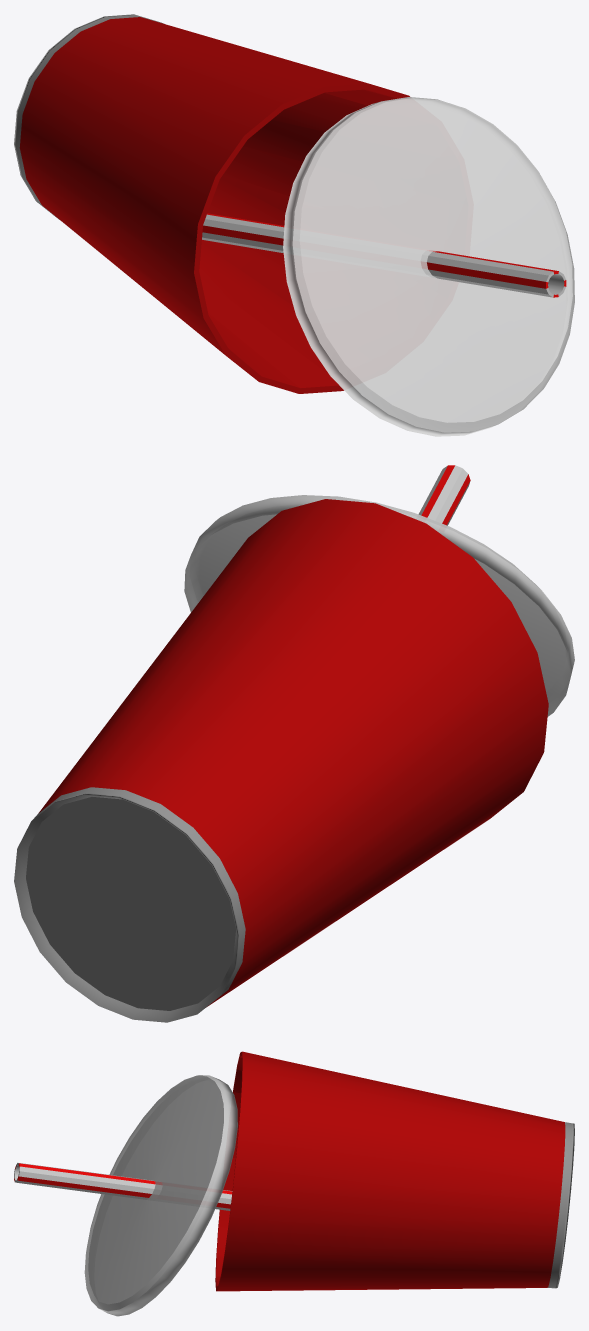
File: Cup.fbx
The picture shows the model from 3 angles, top to bottom: view 1: azimuth 30°, elevation 25°; view 2: azimuth 150°, elevation 25°; view 3: azimuth 270°, elevation 25°; orthographic projection. The views are drawn at different scales.
Parts seen in each view (by area): view 1: base, lid, straw; view 2: base, lid, straw; view 3: base, lid, straw.
Part boxes in pixels (x1=…): base: x1=14, y1=14, x2=409, y2=393; lid: x1=283, y1=97, x2=574, y2=436; straw: x1=202, y1=213, x2=566, y2=297; base: x1=14, y1=499, x2=548, y2=1022; lid: x1=184, y1=495, x2=574, y2=716; straw: x1=418, y1=465, x2=470, y2=525; base: x1=215, y1=1051, x2=574, y2=1291; lid: x1=84, y1=1075, x2=237, y2=1316; straw: x1=14, y1=1163, x2=232, y2=1210.
Size of the model in its own units: 47.4 by 39.04 by 90.55.
